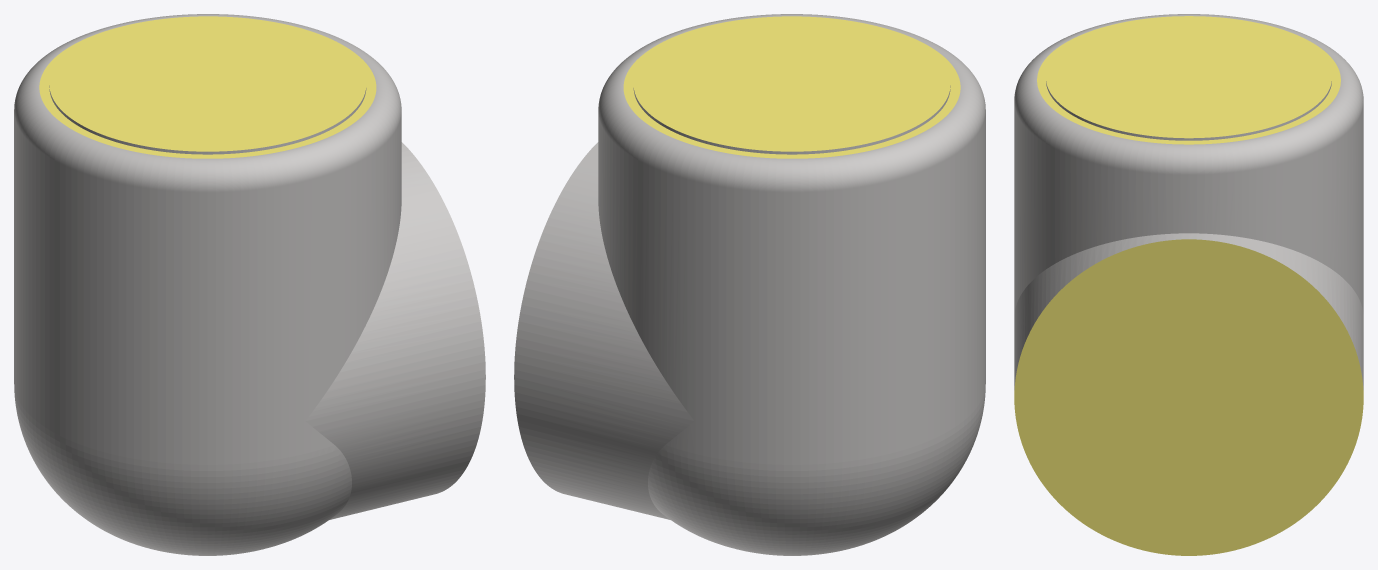
Rendered from arm3.dae.
3 renders of one model, left to right at view 1: azimuth 30°, elevation 25°; view 2: azimuth 150°, elevation 25°; view 3: azimuth 270°, elevation 25°, orthographic. The views are drawn at different scales.
Parts seen in each view (by area): view 1: Arm3; view 2: Arm3; view 3: Arm3.
Part boxes in pixels (x1,y1,x2,y2): Arm3: (14, 14, 485, 555); Arm3: (514, 14, 985, 555); Arm3: (1014, 14, 1363, 555).
Bounding box in the file's own units: 0.1277 × 0.1227 × 0.1544.
2 materials, 2 textured.
